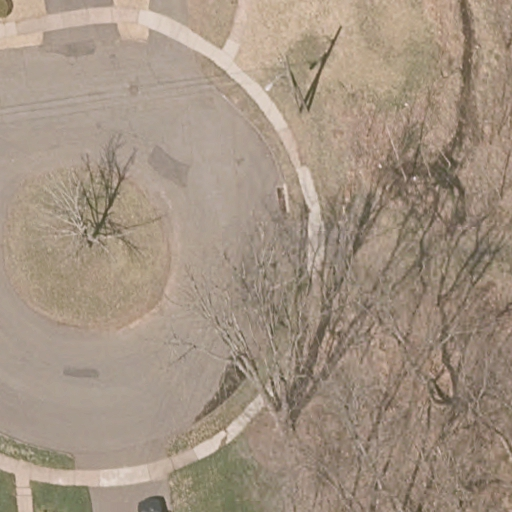DT: (276, 48, 312, 112)
